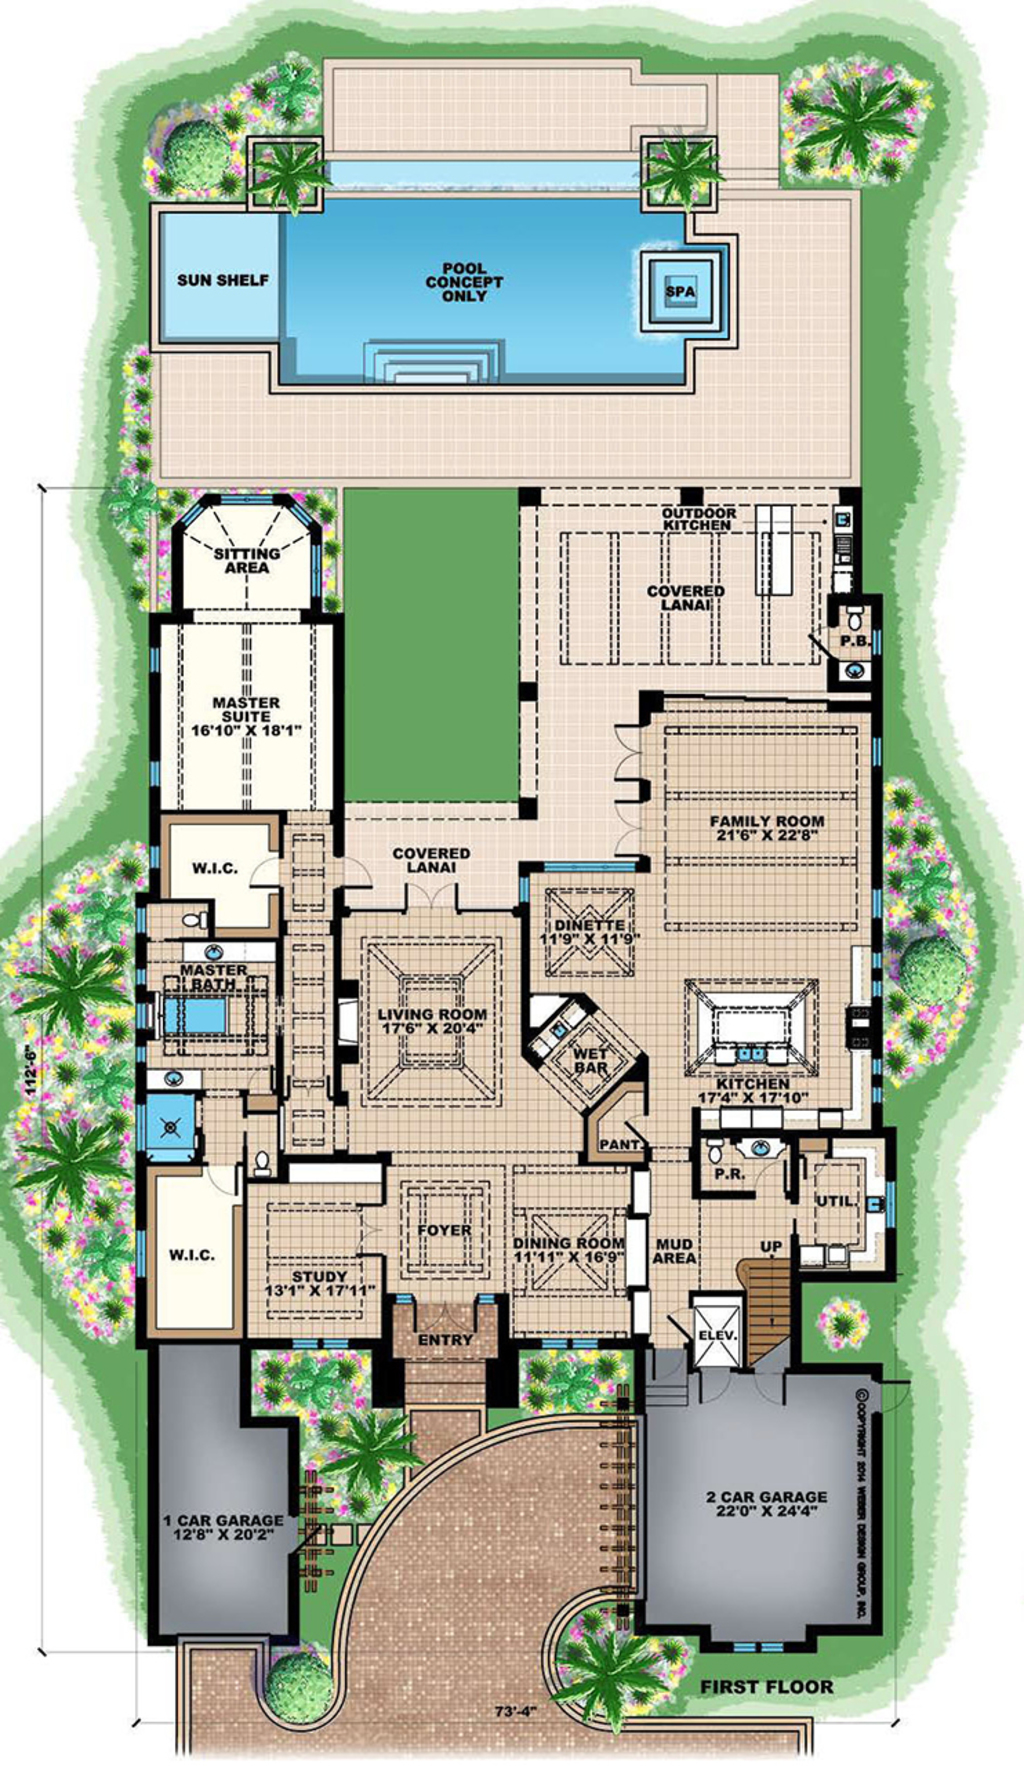door: (395, 873, 463, 917), (612, 720, 649, 784), (244, 852, 282, 890), (207, 1161, 243, 1199)
stairs: (748, 1250, 784, 1374)
windows: (618, 1172, 656, 1326), (190, 479, 288, 516)
